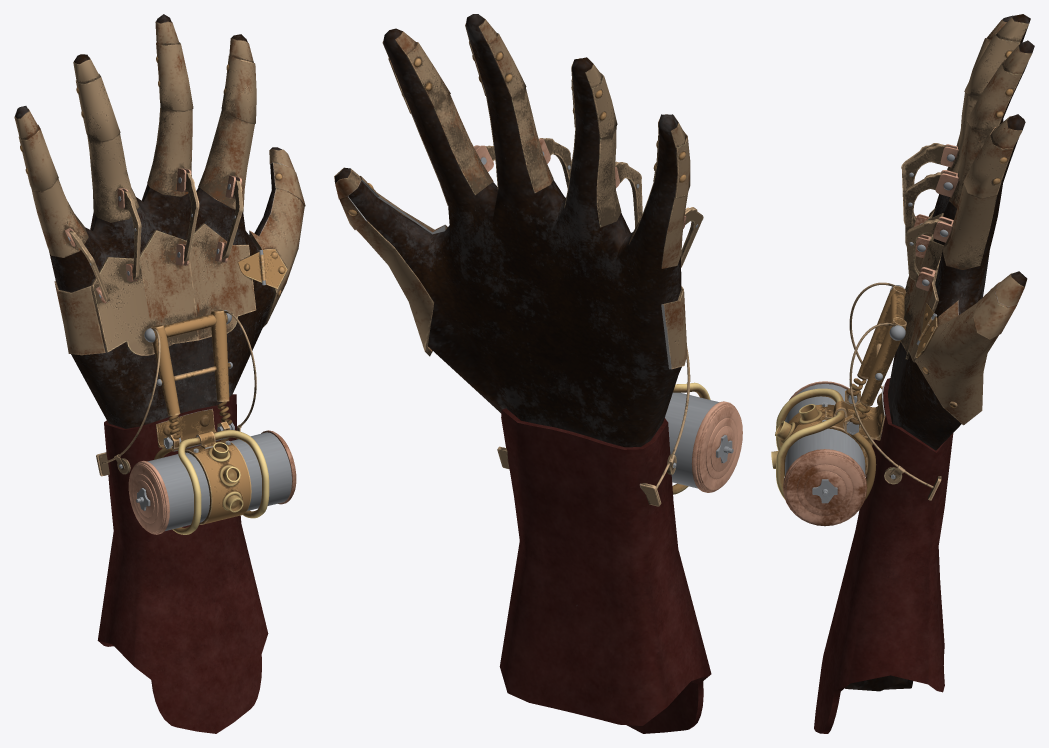
File: рукаW.fbx
3 renders of one model, left to right at view 1: azimuth 30°, elevation 25°; view 2: azimuth 150°, elevation 25°; view 3: azimuth 270°, elevation 25°, orthographic. The views are drawn at different scales.
Visible parts, largest first — view 1: Cylinder.017; view 2: Cylinder.017; view 3: Cylinder.017.
Part boxes in pixels (bbox=[...]): Cylinder.017: bbox=[14, 14, 305, 733]; Cylinder.017: bbox=[334, 14, 742, 733]; Cylinder.017: bbox=[771, 14, 1034, 733].
Size of the model in its own units: 21.69 by 48 by 16.1.
Materials: 1 (1 with a texture image).
